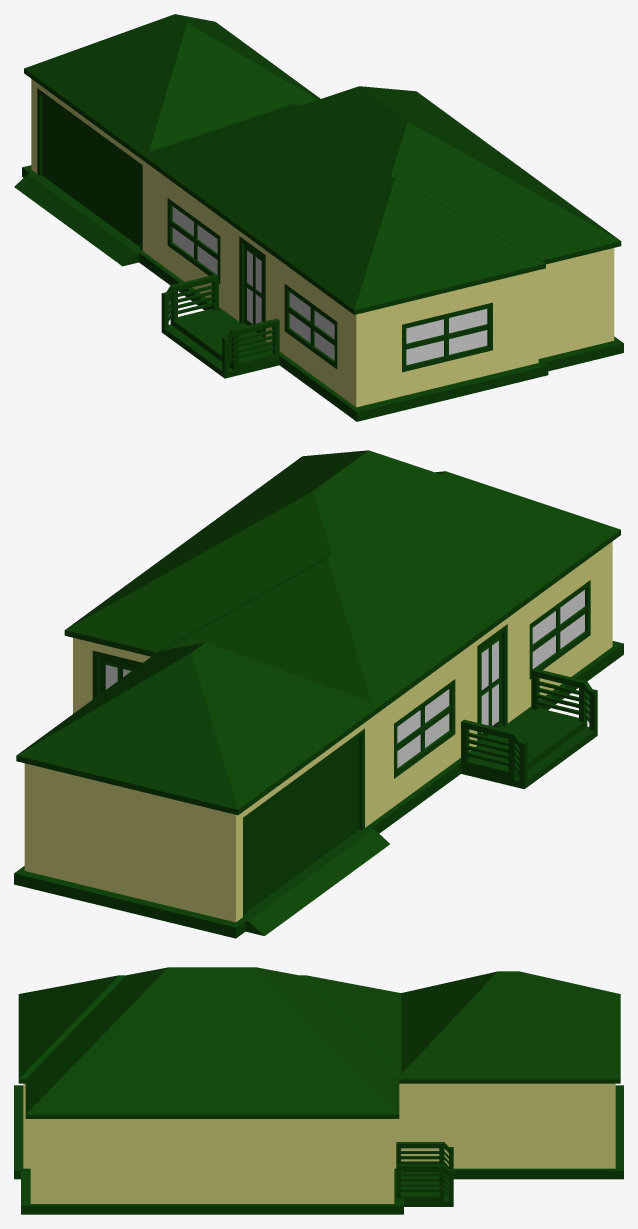
The model's file is House #25.fbx.
3 views of the same model, one above another, from view 1: azimuth 30°, elevation 25°; view 2: azimuth 150°, elevation 25°; view 3: azimuth 270°, elevation 25° (orthographic). The views are drawn at different scales.
Parts seen in each view (by area): view 1: building_001; view 2: building_001; view 3: building_001.
Part boxes in pixels (<box>): building_001: <box>14,14,623,421</box>; building_001: <box>14,450,623,938</box>; building_001: <box>14,967,623,1214</box>.
Size of the model in its own units: 714 by 430 by 1272.
